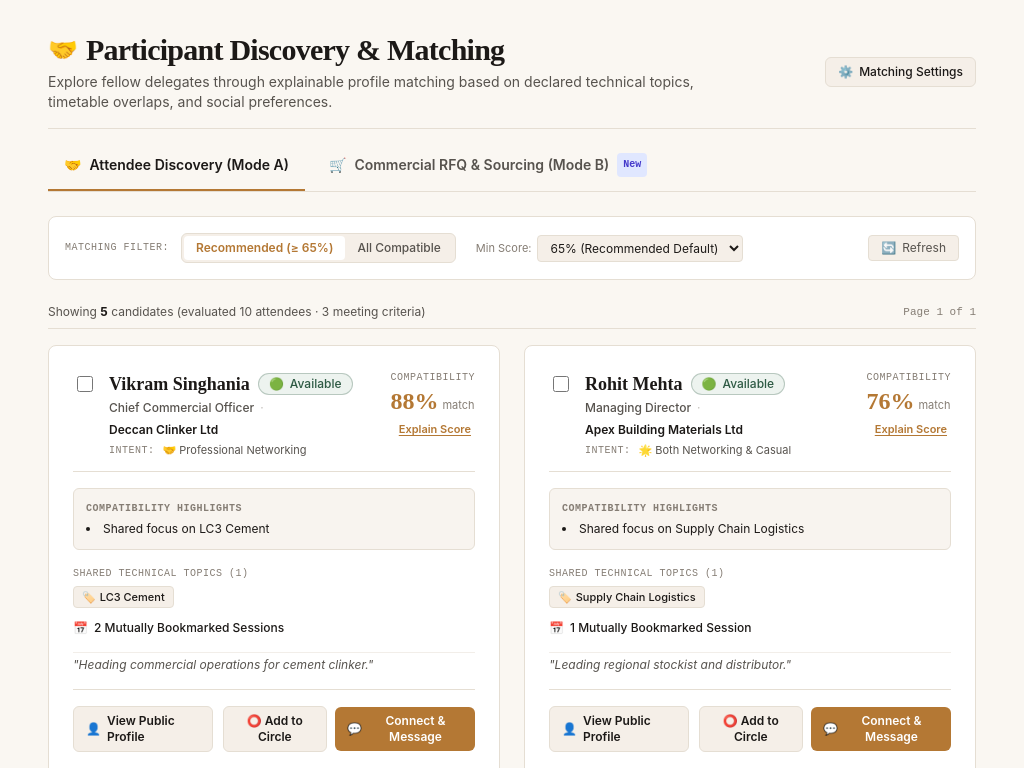
Test: Mode A Multi-Select & Thematic Circle Modal (Phase 5) › shows the floating dock when a candidate is selected and updates count
This screenshot has width=1024, height=768.
Later steps or results of the test are not shown.
Expected: the heading "Vikram Singhania" is shown, x1=109 y1=370 x2=250 y2=398
Click the button "⭕ Add to Circle" below "Deccan Clinker Ltd".
click(275, 729)  # box x1=222 y1=706 x2=327 y2=752
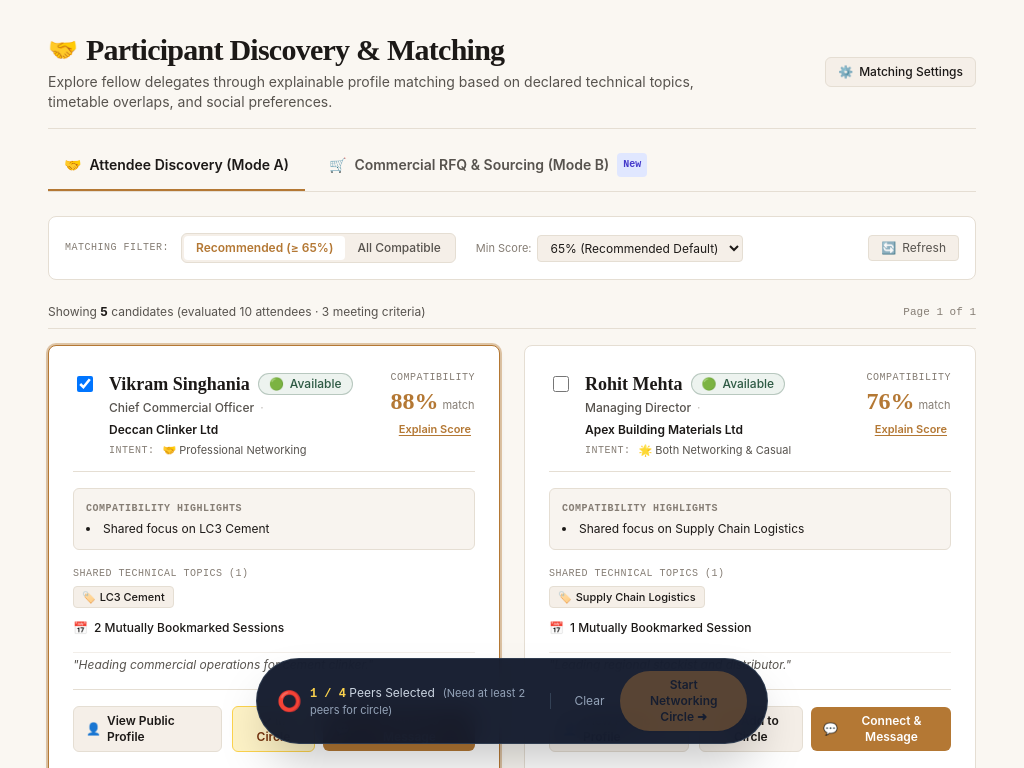
Result: the element named "Thematic Circle Selection" is shown at x1=256 y1=658 x2=768 y2=744
Result: the text "1 / 4" is shown at x1=310 y1=686 x2=346 y2=700
Result: the text "(Need at least 2 peers for circle)" is shown at x1=310 y1=686 x2=525 y2=716
